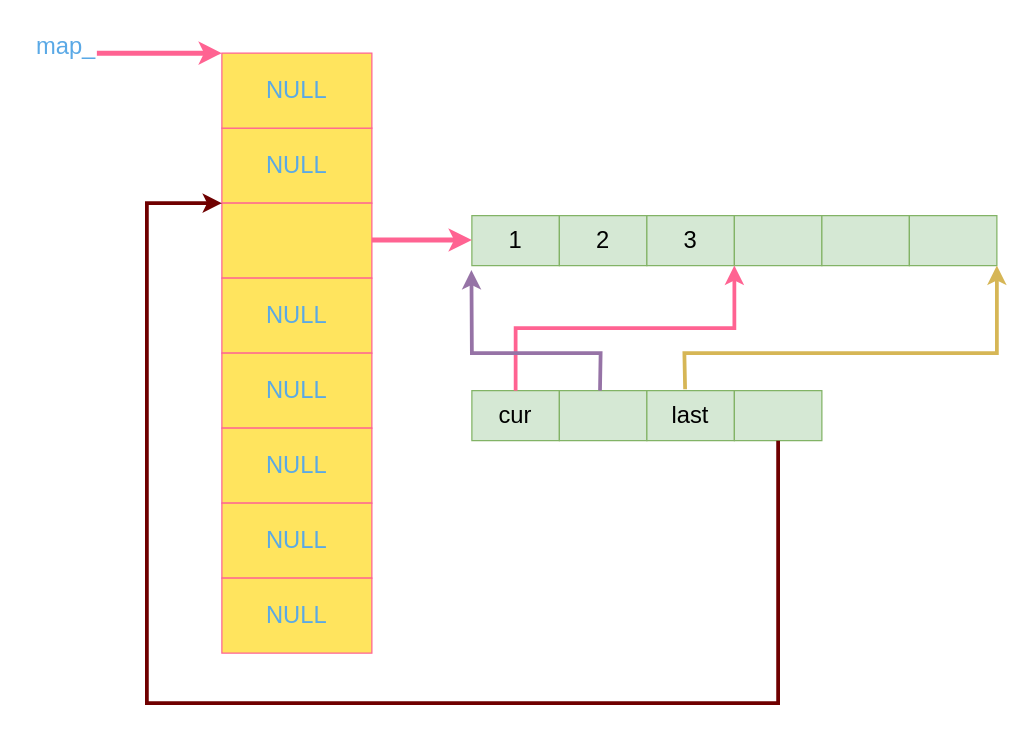
This 1030x736 diagram has some shape labels left out. The centre of each missing label's shape, as x and y in pixels:
"first" goes at [602,415].
"node" goes at [777,415].
